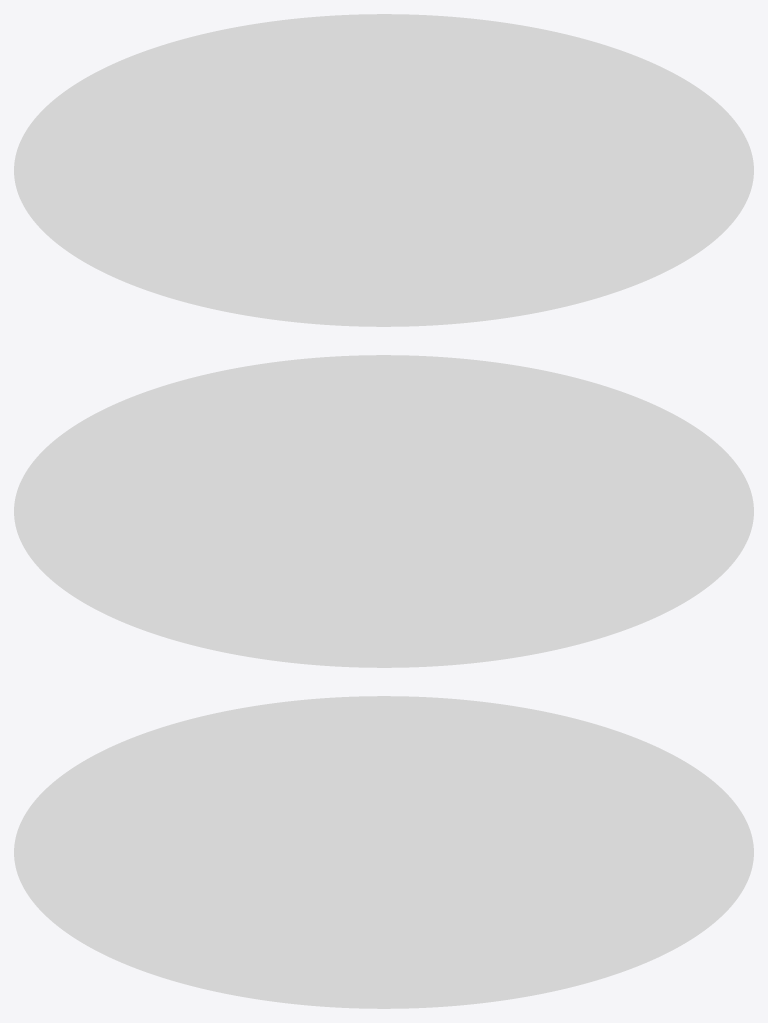
File: CoffeeLiquid.fbx
3 views of the same model, one above another, from view 1: azimuth 30°, elevation 25°; view 2: azimuth 150°, elevation 25°; view 3: azimuth 270°, elevation 25° (orthographic).
Parts seen in each view (by area): view 1: CoffeeLiquid; view 2: CoffeeLiquid; view 3: CoffeeLiquid.
Part boxes in pixels (left/top/right/bottom): CoffeeLiquid: left=14, top=14, right=753, bottom=326; CoffeeLiquid: left=14, top=355, right=753, bottom=667; CoffeeLiquid: left=14, top=696, right=753, bottom=1008.
Size of the model in its own units: 77.6 by 2.75e-05 by 77.6.
